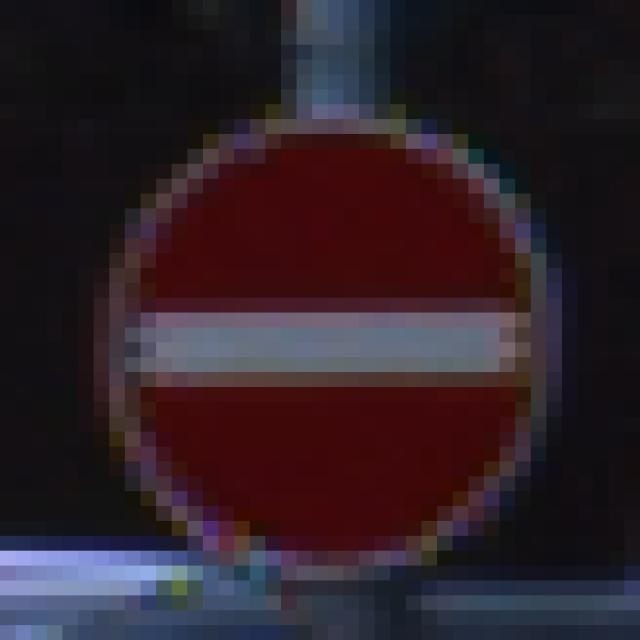No Entry: (95, 90, 563, 567)
